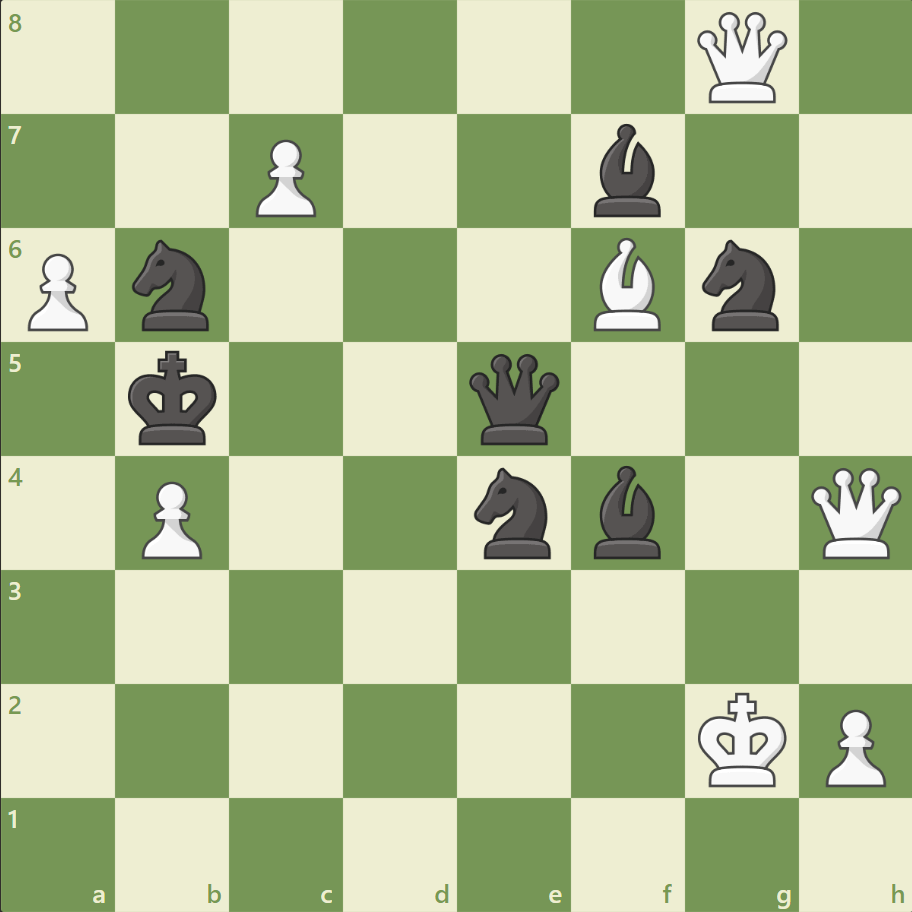B: (585, 233, 669, 336)
K: (692, 685, 792, 793)
P: (247, 132, 322, 223), (20, 246, 95, 337), (133, 473, 208, 564), (815, 700, 889, 791)
Q: (691, 9, 790, 108), (805, 463, 904, 562)
b: (585, 460, 669, 563), (585, 120, 669, 222)
k: (124, 344, 224, 452)
n: (124, 234, 222, 337), (692, 234, 789, 337), (465, 461, 562, 564)
q: (464, 349, 563, 449)
